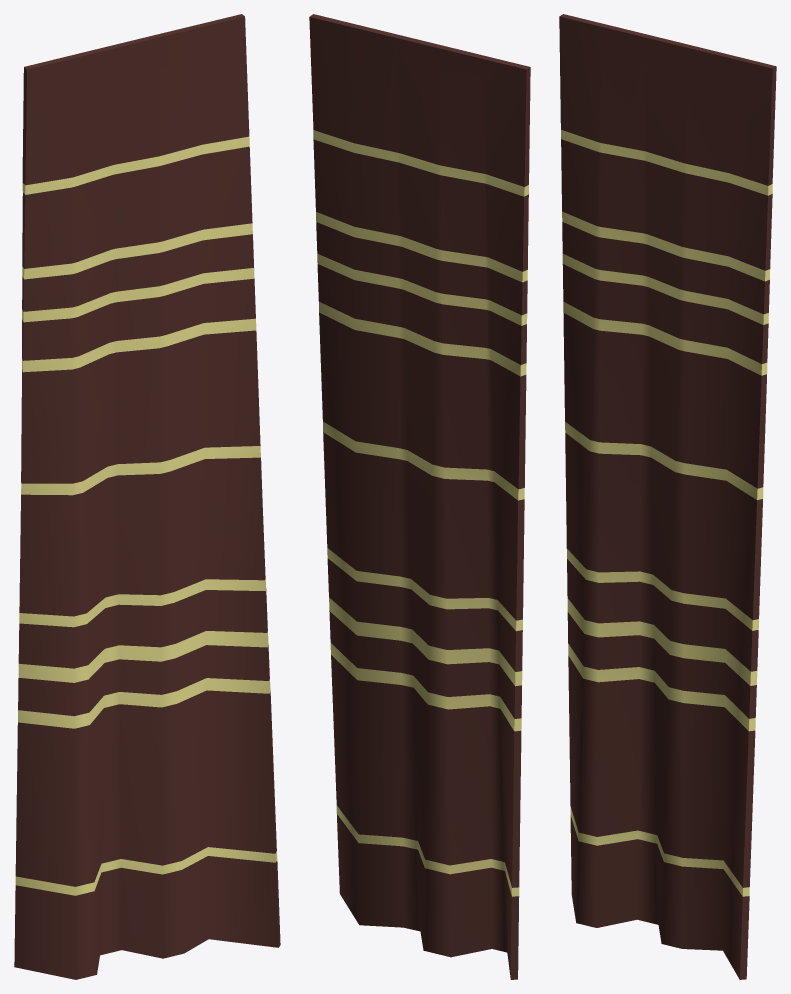
Rendered from Curtains_007.glb.
3 views of the same model, side by side, from view 1: azimuth 30°, elevation 25°; view 2: azimuth 150°, elevation 25°; view 3: azimuth 330°, elevation 25° (orthographic). The views are drawn at different scales.
Visible parts, largest first — view 1: Curtains_007; view 2: Curtains_007; view 3: Curtains_007.
Part boxes in pixels (x1,y1,x2,y2): Curtains_007: (14,14,280,979); Curtains_007: (309,14,530,979); Curtains_007: (559,14,776,979).
Bounding box in the file's own units: 0.693 × 2.7 × 0.2609.
1 material, 1 textured.
